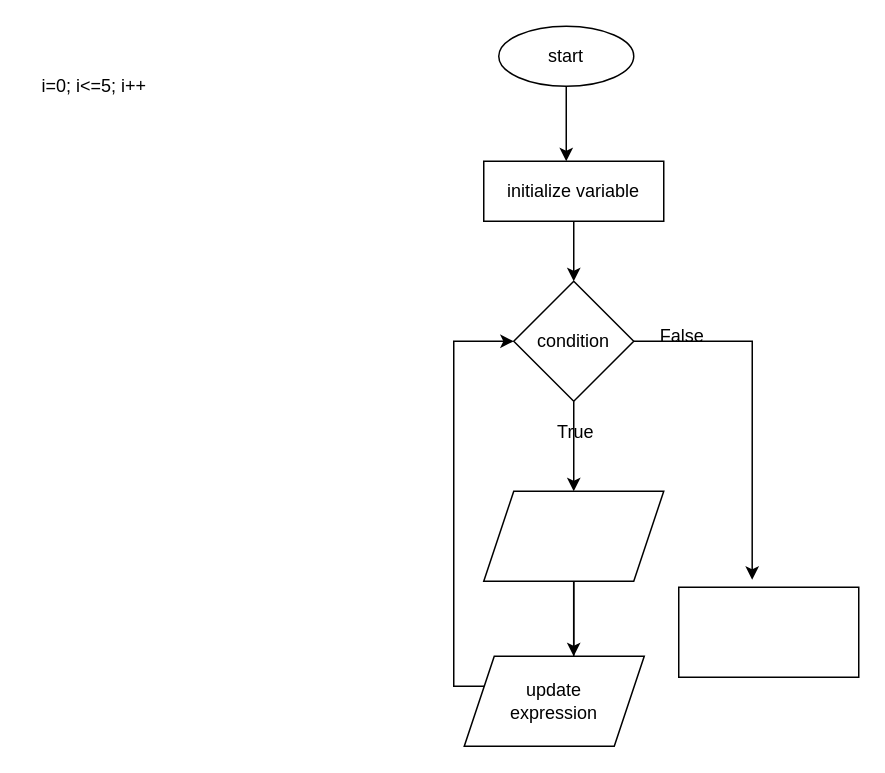
Some shapes in this 885 by 773 pixel diagram are drawn without their labels. The centre of each missing label's shape, as x and y in pixels:
"loop close" belongs at (x=768, y=631).
"loop execute" belongs at (x=573, y=535).
